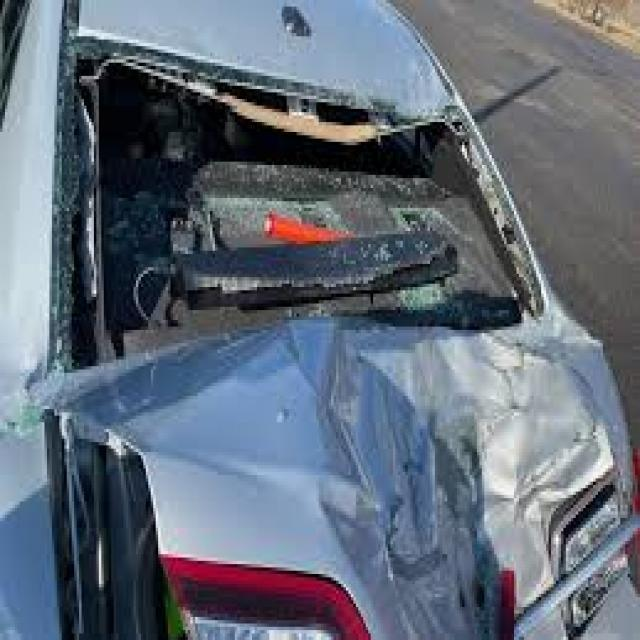damaged-trunk: (73, 332, 628, 637)
